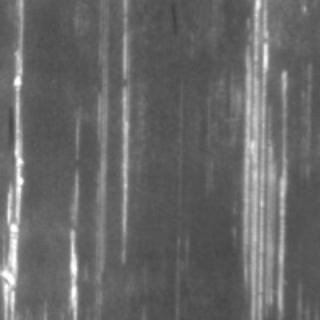scratches: (237, 2, 289, 314), (1, 1, 26, 316), (112, 0, 136, 262), (61, 121, 81, 316)
